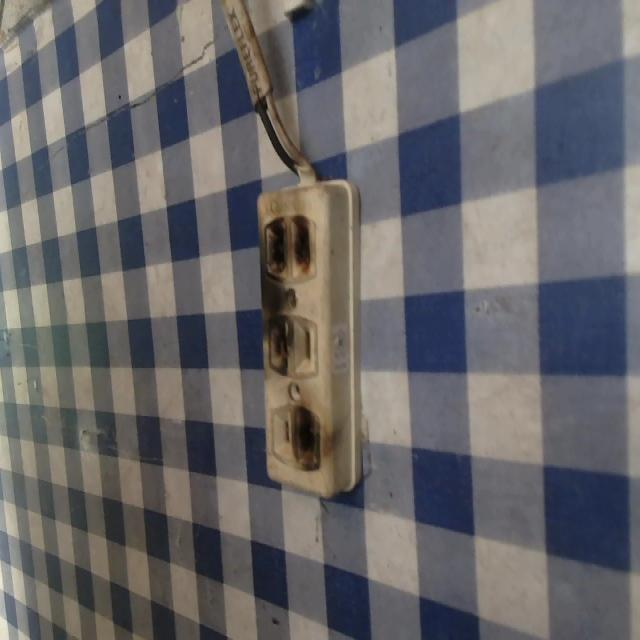-: (256, 212, 319, 284), (288, 398, 335, 474), (260, 310, 296, 378)
